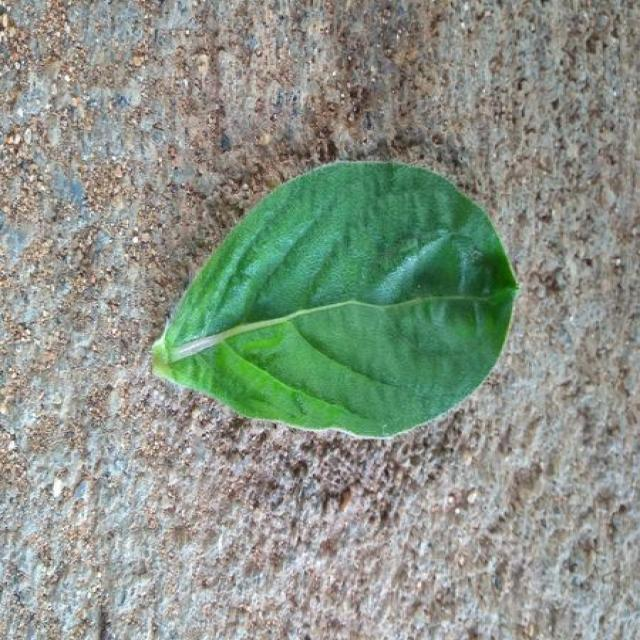globe amarnath: (153, 162, 518, 438)
